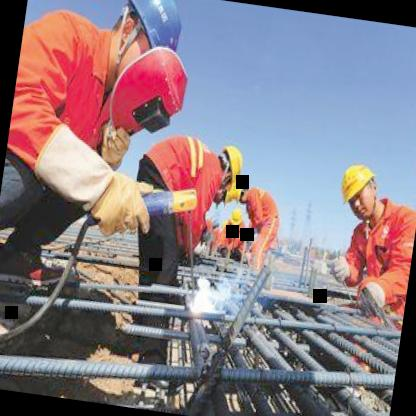helmet: (101, 0, 194, 90), (335, 157, 386, 222), (209, 140, 246, 184), (229, 177, 253, 206), (225, 203, 245, 231)
